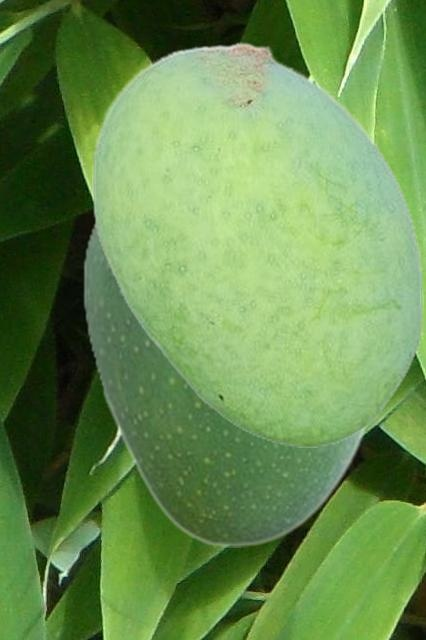green_mango: (92, 41, 422, 446), (82, 218, 373, 546)
